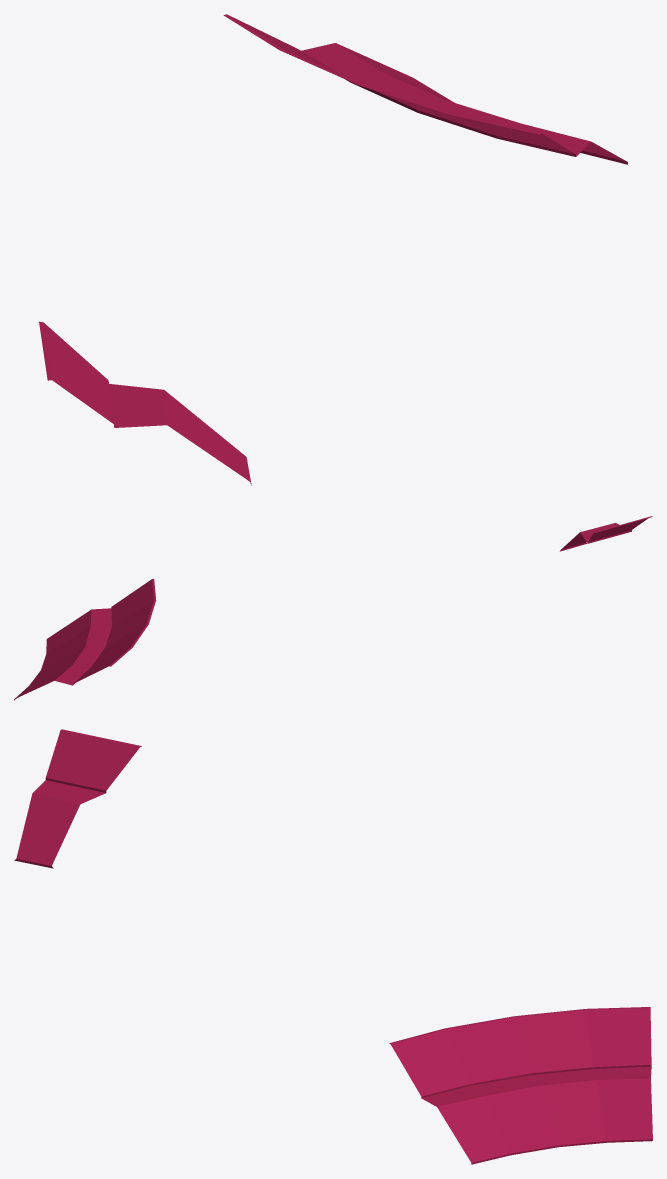
File: stair_ramps.fbx
3 views of the same model, one above another, from view 1: azimuth 30°, elevation 25°; view 2: azimuth 150°, elevation 25°; view 3: azimuth 270°, elevation 25° (orthographic). The views are drawn at different scales.
Visible parts, largest first — view 1: MainStairsRamp, UpperLevelRamp; view 2: MainStairsRamp, UpperLevelRamp; view 3: MainStairsRamp, UpperLevelRamp.
Part boxes in pixels (x1,y1,x2,y2): MainStairsRamp: [223, 14, 627, 164]; UpperLevelRamp: [39, 321, 251, 485]; MainStairsRamp: [14, 579, 156, 700]; UpperLevelRamp: [560, 516, 652, 551]; MainStairsRamp: [389, 1007, 652, 1164]; UpperLevelRamp: [14, 729, 141, 868].
Size of the model in its own units: 81.38 by 20.33 by 77.49.
